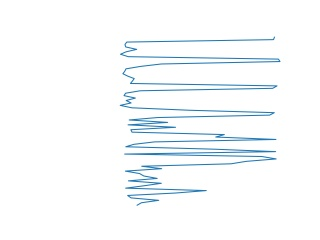crevasseRiverChannelBar: (117, 157, 277, 205)
majorRiverBedLagDeposit: (120, 120, 284, 164)
majorRiverChannelBar: (115, 35, 283, 117)
